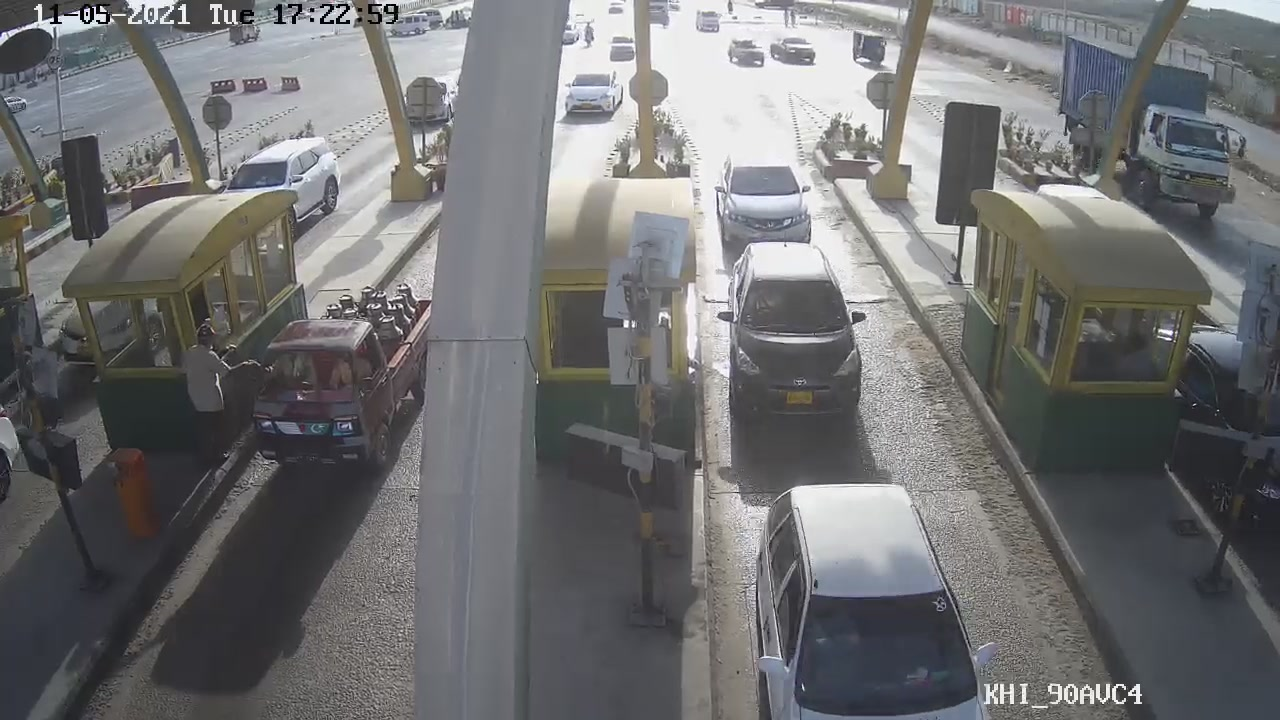F1: (704, 231, 874, 429)
